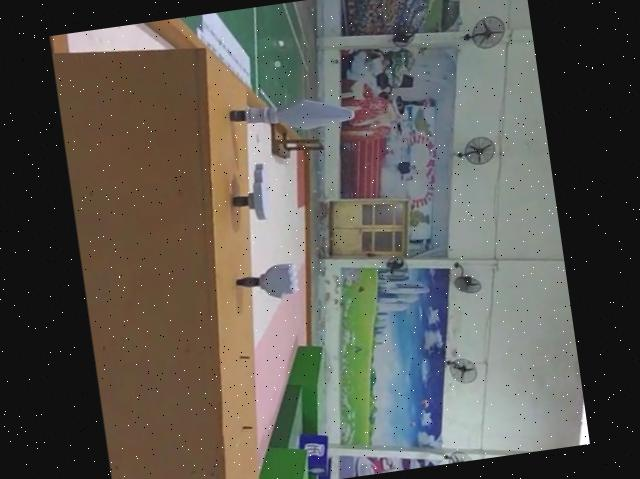Fist: (235, 261, 301, 305)
Hand: (230, 162, 279, 227)
Sph: (225, 90, 357, 142)
